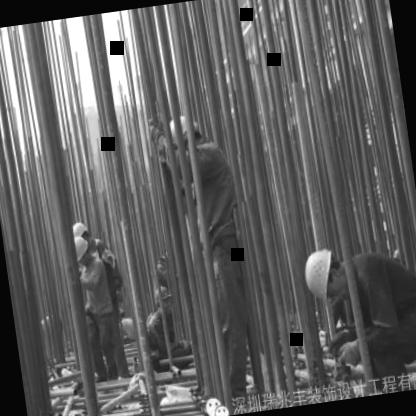helmet: (298, 240, 350, 312), (162, 111, 212, 165), (64, 234, 91, 267), (69, 219, 92, 247)
